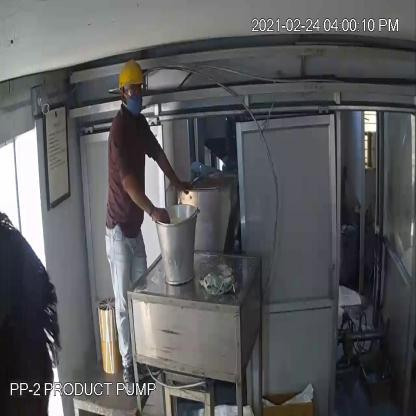helmet: (116, 58, 150, 96)
